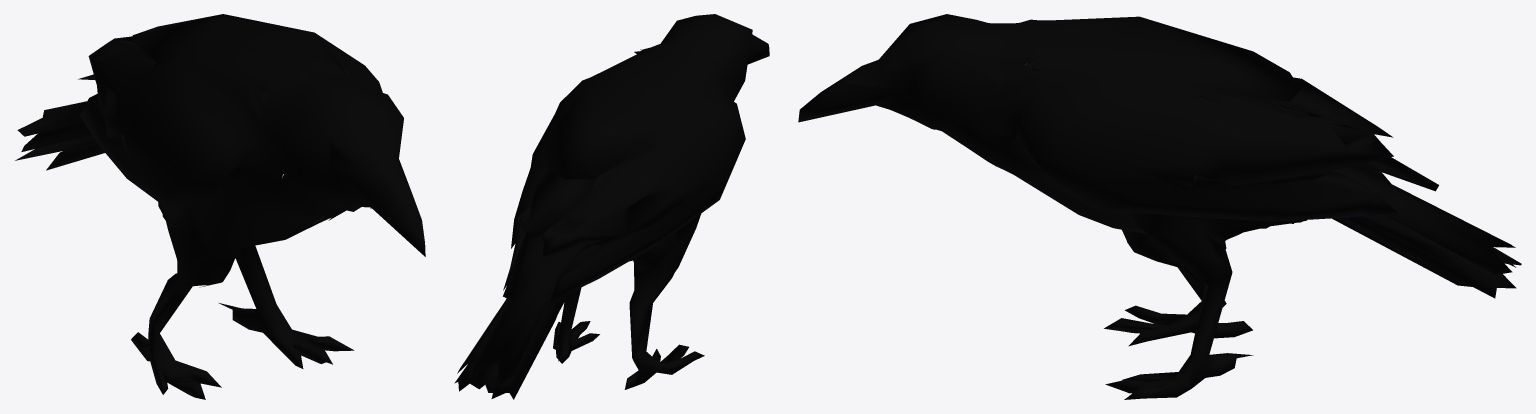
File: raven_ground.glb
The picture shows the model from 3 angles, left to right: view 1: azimuth 30°, elevation 25°; view 2: azimuth 150°, elevation 25°; view 3: azimuth 270°, elevation 25°; orthographic projection. The views are drawn at different scales.
Parts seen in each view (by area): view 1: lod0; view 2: lod0; view 3: lod0.
Part boxes in pixels (x1,y1,x2,y2): lod0: [15, 14, 425, 399]; lod0: [454, 14, 769, 399]; lod0: [798, 14, 1521, 399].
Size of what is drawn, in the model's own units: 0.1985 by 0.3206 by 0.6206.
Materials: 1 (1 with a texture image).
